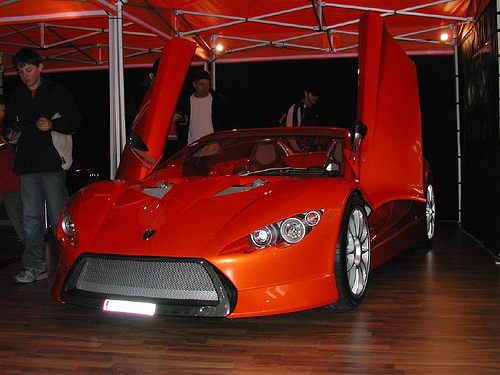without_mask: (12, 57, 46, 89), (190, 75, 214, 98)
